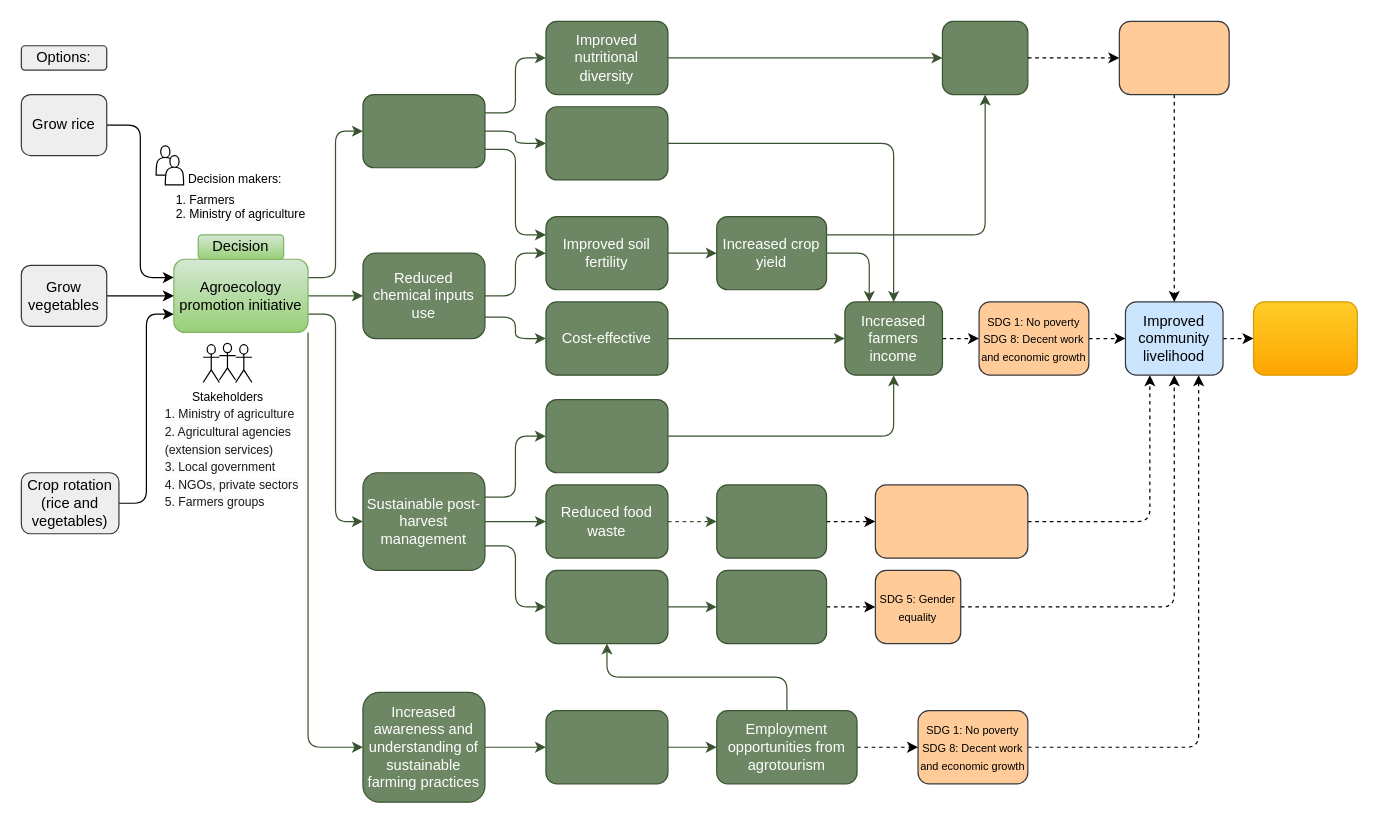
Some shapes in this 1379 by 824 pixel diagram are drawn without their labels. Here are the shapes that lost their labels. From the top down, the centre of each, then its label:
At point (984, 57): "Food security".
At point (1173, 57): "SDG 2: Zero hunger SDG 5: Good health and well-being".
At point (423, 130): "Crop diversification".
At point (606, 143): "Market diversification".
At point (1304, 338): "Indonesia 2045 vision".
At point (606, 435): "Reduced post-harvest losses".
At point (771, 521): "Reduced GHG emissions".
At point (951, 521): "SDG 12: Responsible consumption and production SDG 13:Climate action".
At point (606, 606): "Community engagement".
At point (771, 606): "Women empowerement".
At point (606, 746): "Maintain the ecosystem landscape".
